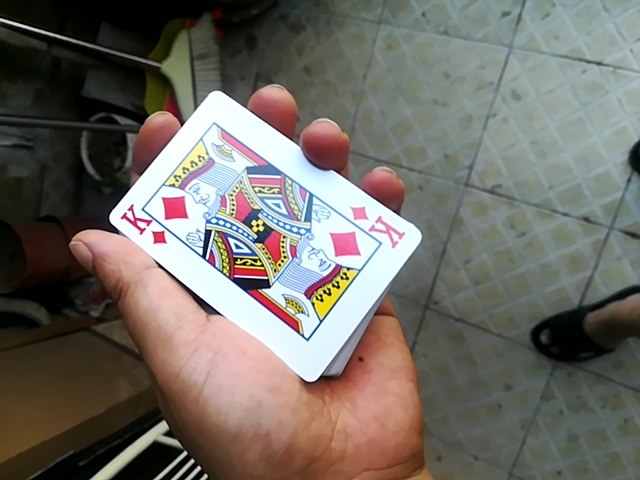fk k: (94, 90, 408, 376)
